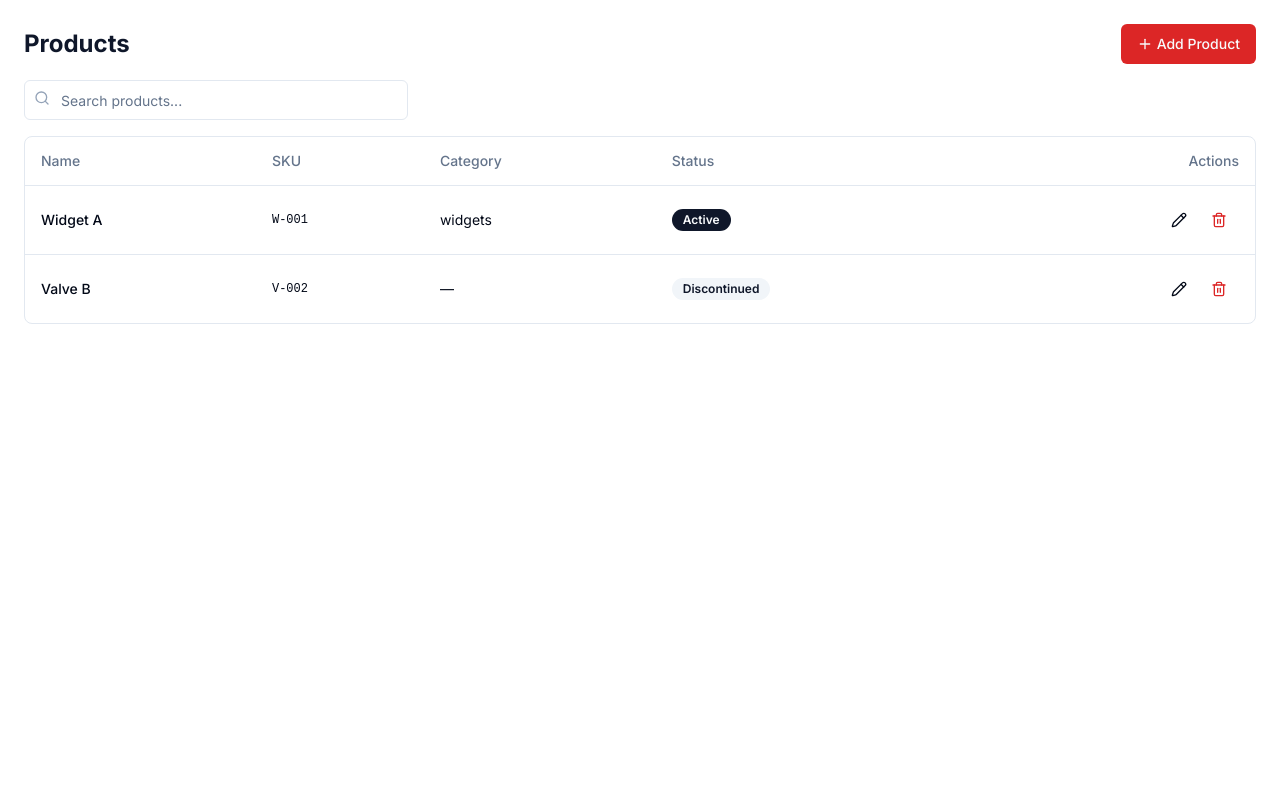
it: ProductsPage › opens Add Product dialog when Add Product button clicked
Expected: the text "Widget A" is shown, x1=25 y1=185 x2=256 y2=254
Click the button "Add Product".
click(1188, 44)  # box x1=1121 y1=24 x2=1256 y2=64
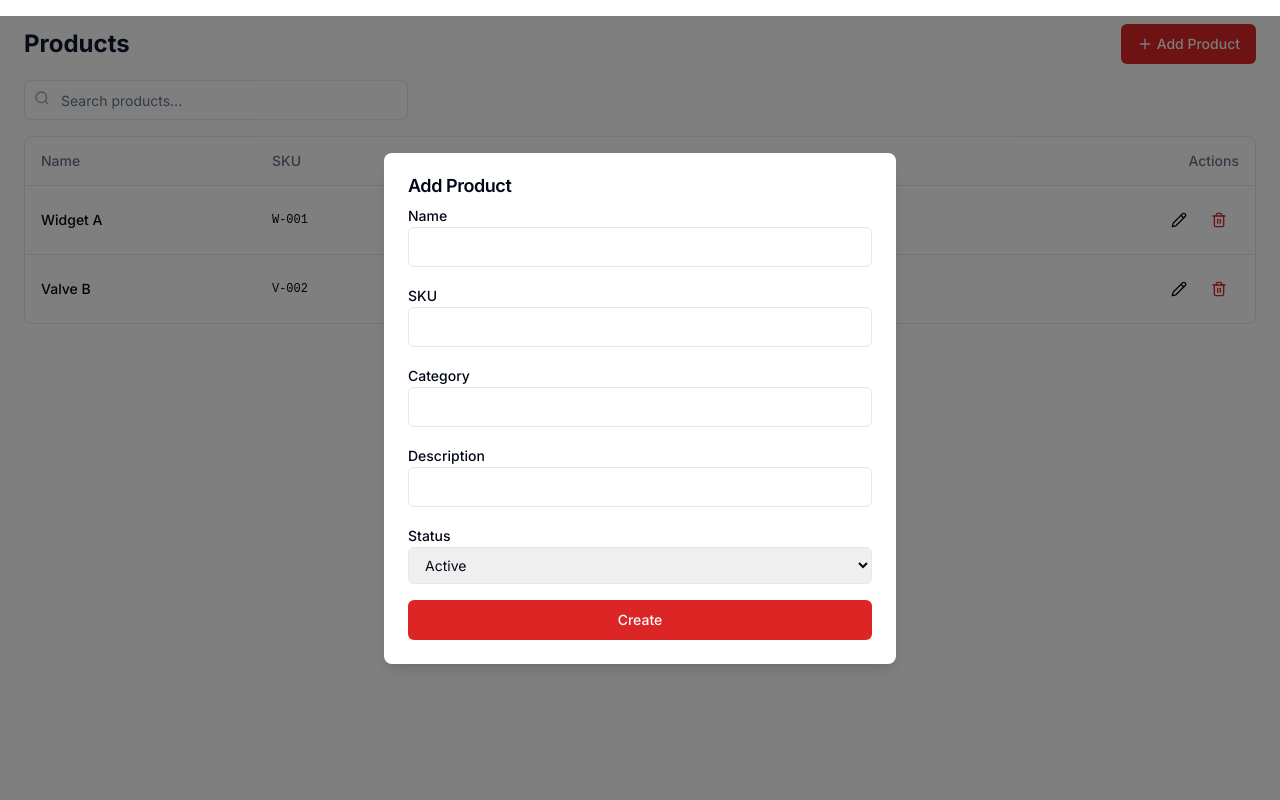
Expected: the heading "Add Product" is shown, x1=408 y1=174 x2=511 y2=196
